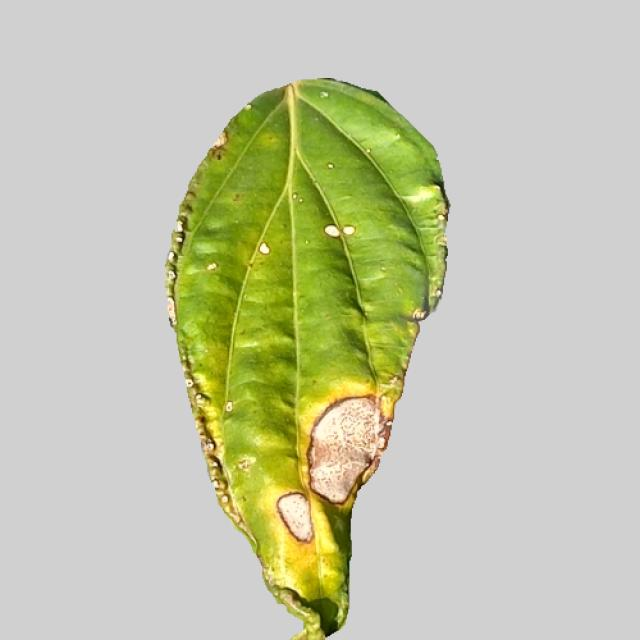leaf-blight: (166, 73, 454, 640)
